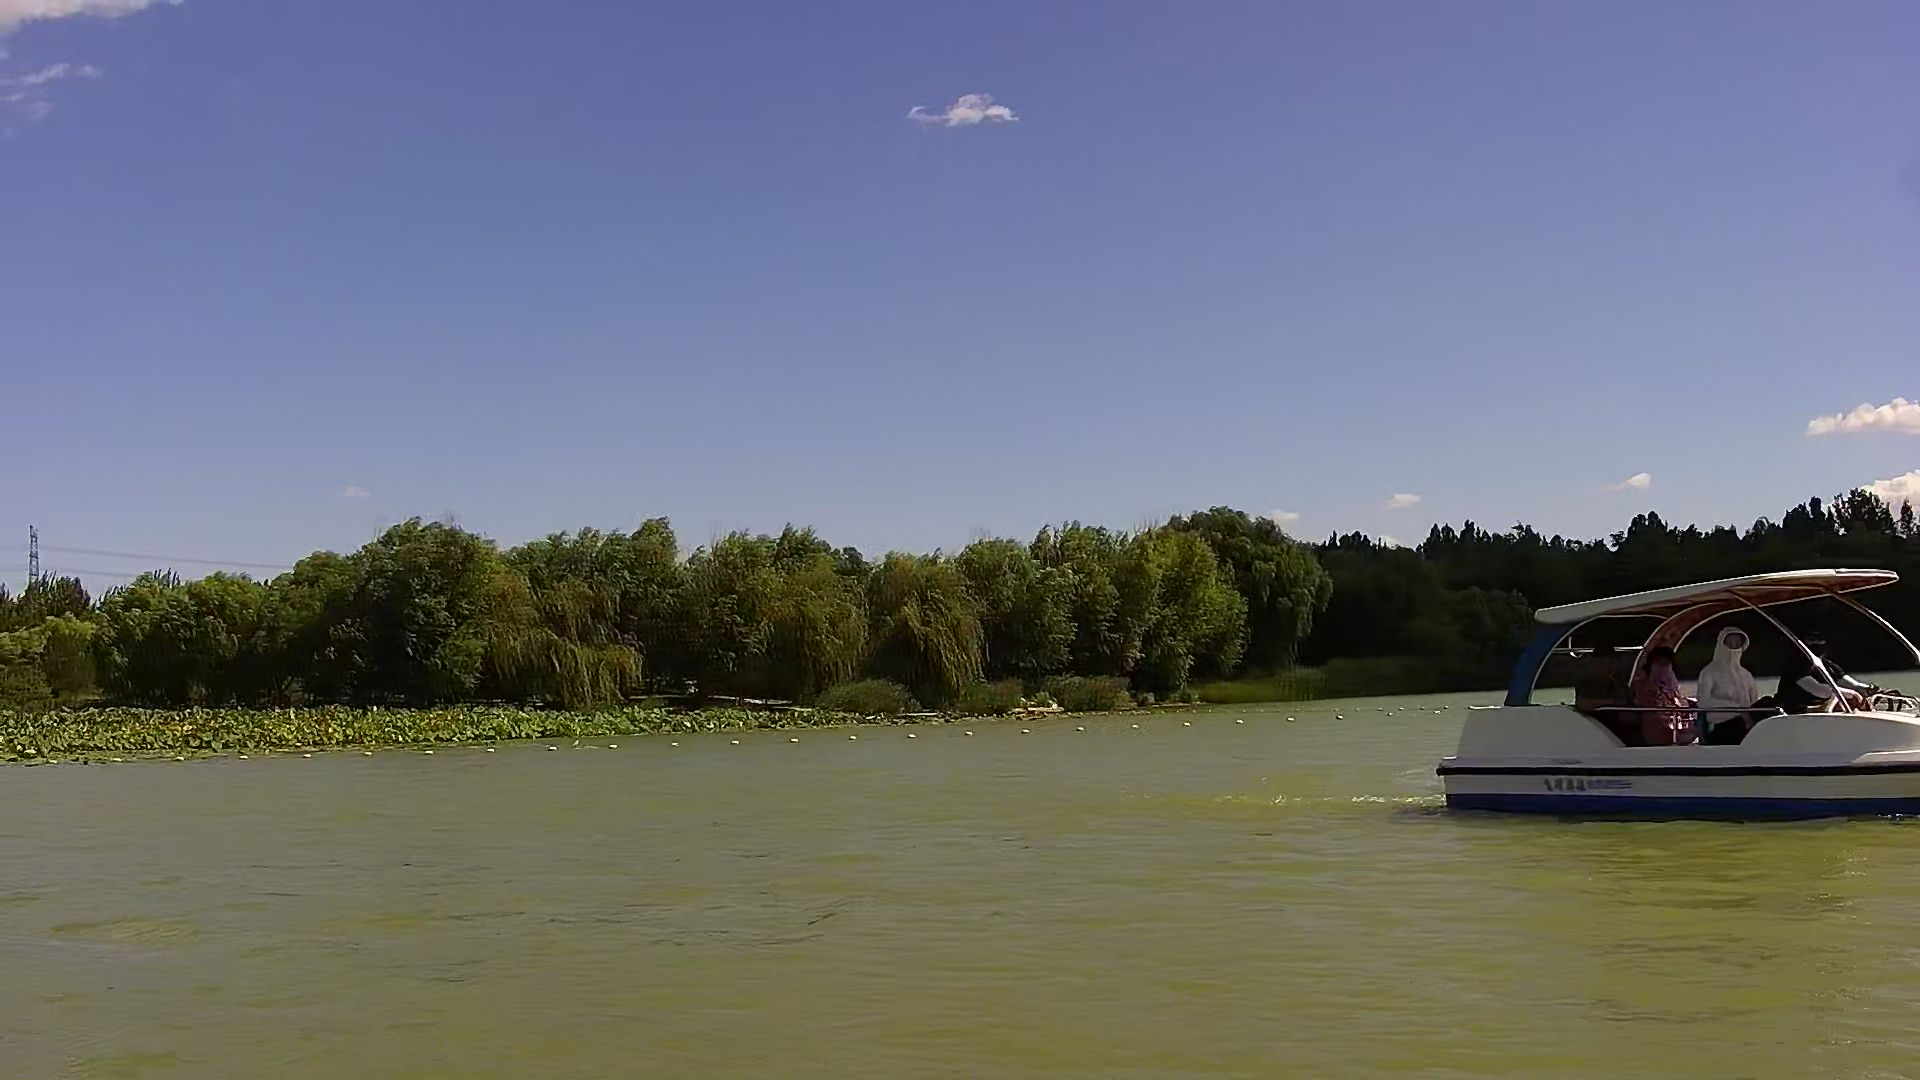boat: (1433, 560, 1917, 828)
